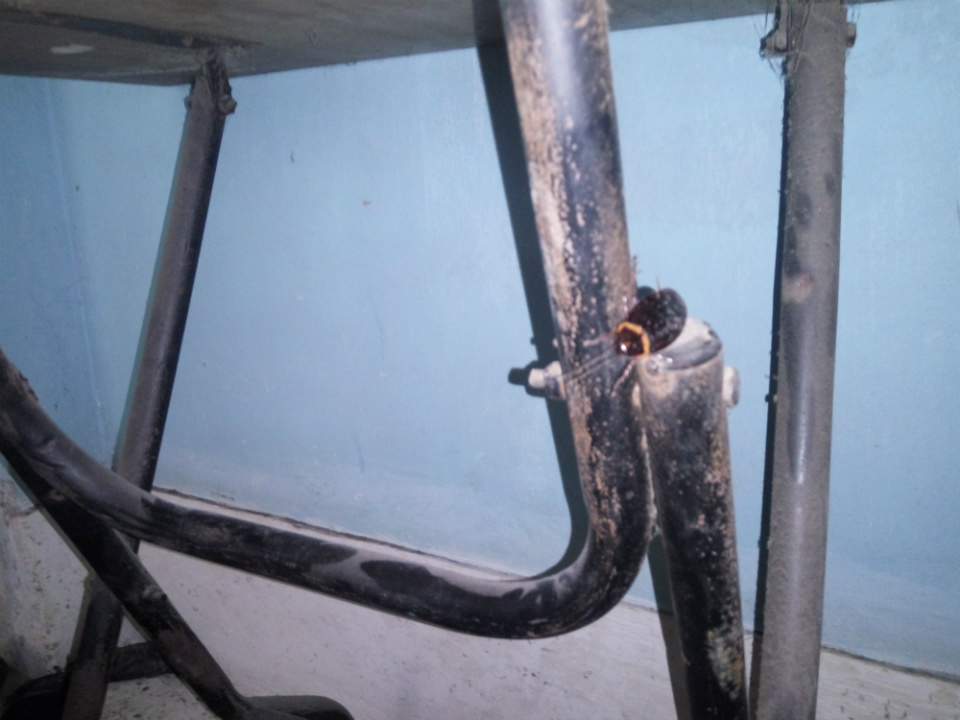cockroach: (504, 216, 772, 380)
